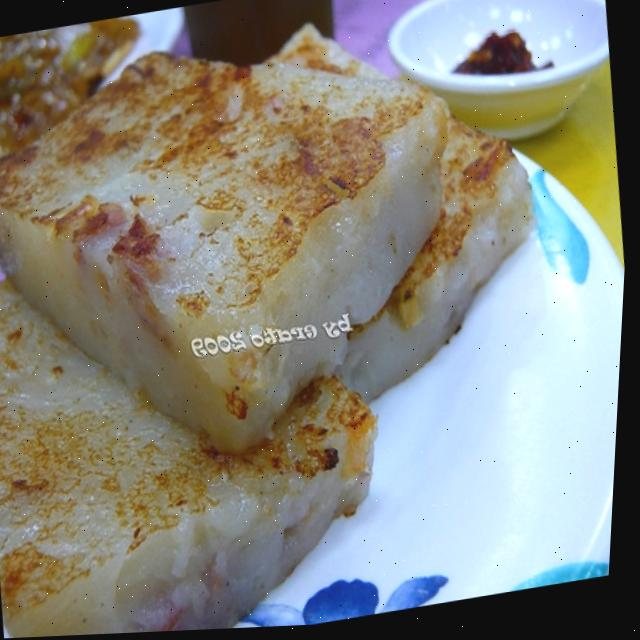蛋糕甜品: (0, 3, 586, 640)
